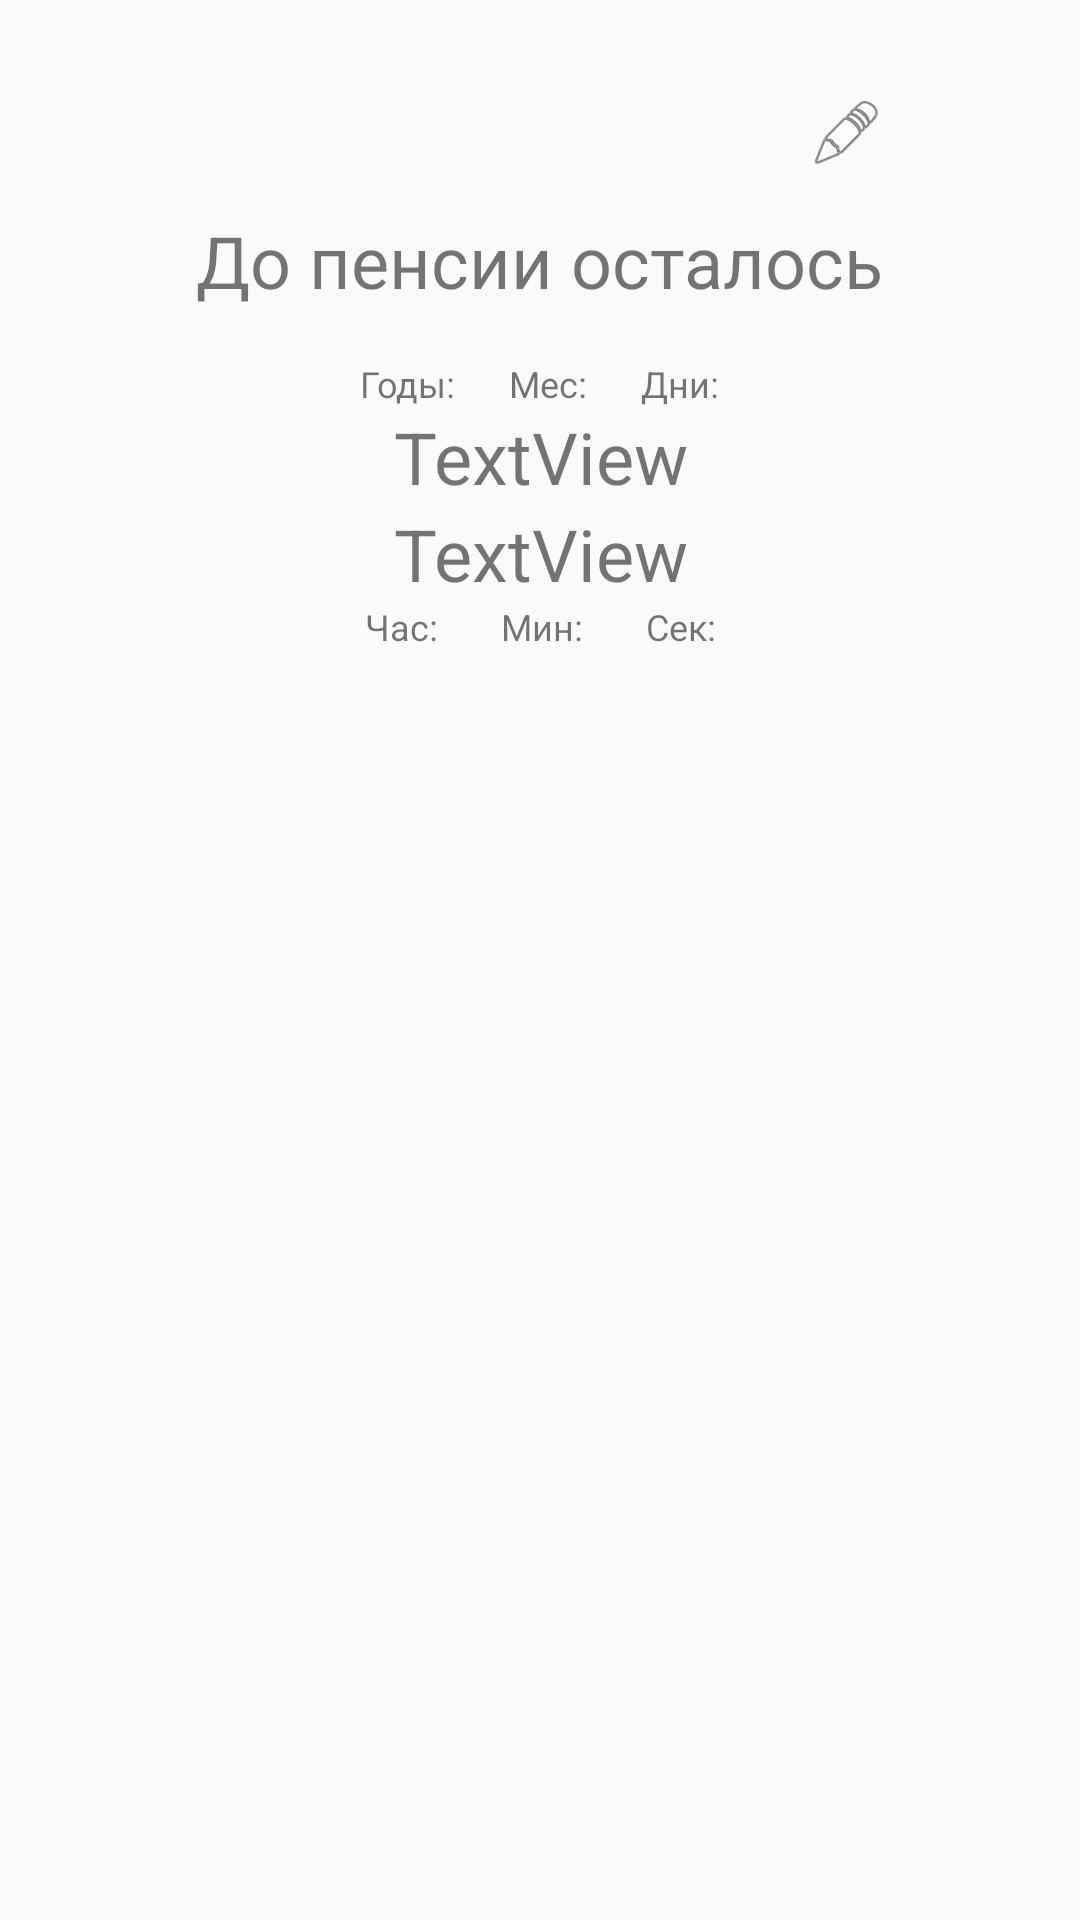

Named icons in this screenshot (1080 x 1920) and their centers, (x,y):
edit: (846,132)
